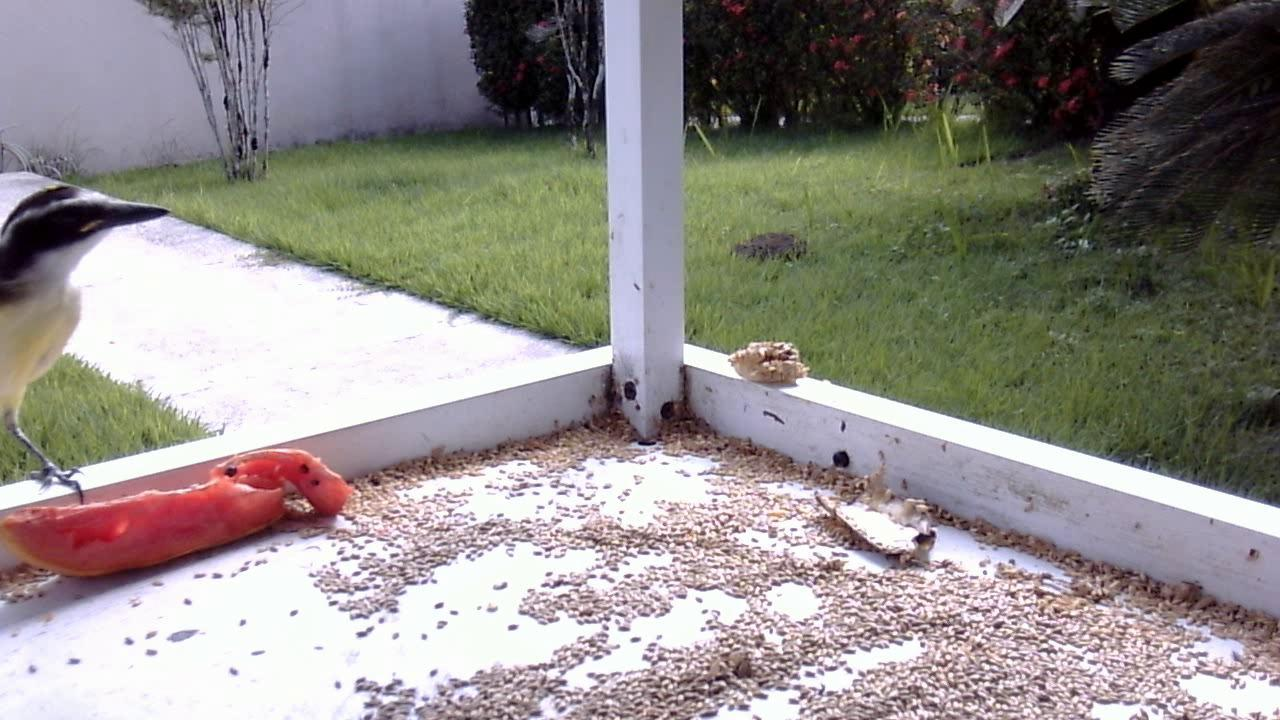bem_te_vi: (1, 152, 175, 512)
